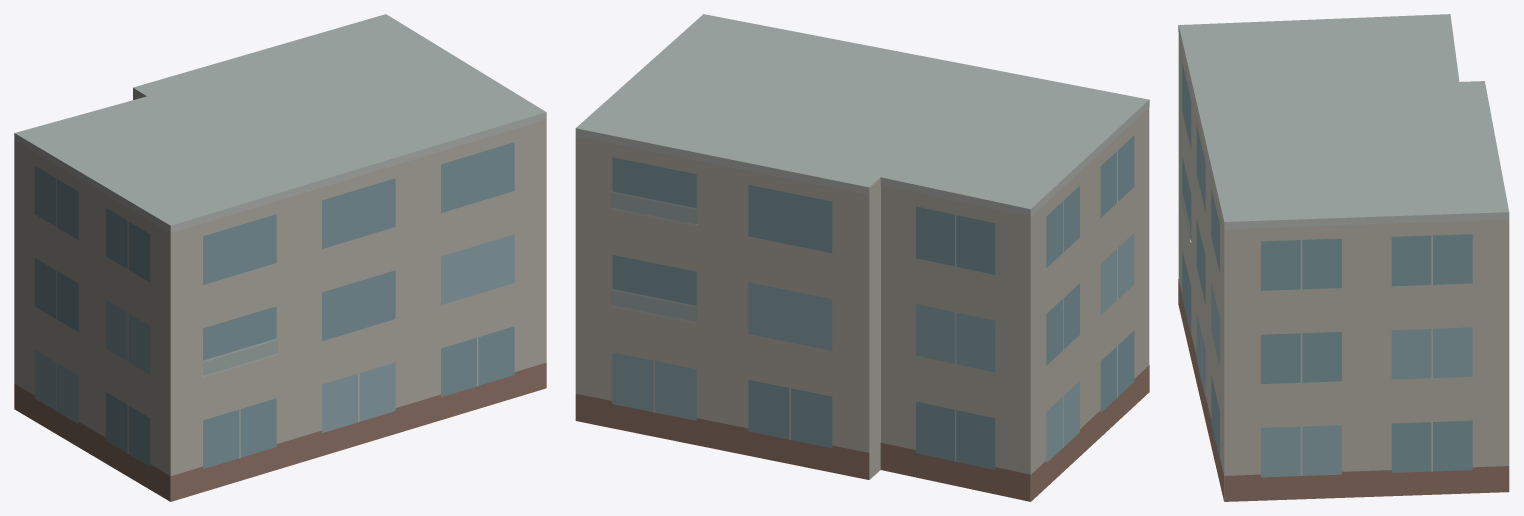
File: survey-upis-32727409.glb
3 renders of one model, left to right at view 1: azimuth 30°, elevation 25°; view 2: azimuth 150°, elevation 25°; view 3: azimuth 270°, elevation 25°, orthographic. The views are drawn at different scales.
Visible parts, largest first — view 1: survey-upis-32727409.tmp; view 2: survey-upis-32727409.tmp; view 3: survey-upis-32727409.tmp.
Part boxes in pixels (x1=…): survey-upis-32727409.tmp: x1=14, y1=14, x2=546, y2=501; survey-upis-32727409.tmp: x1=575, y1=14, x2=1149, y2=501; survey-upis-32727409.tmp: x1=1178, y1=14, x2=1509, y2=501.
Size of the model in its own units: 14.59 by 9.15 by 9.81.
